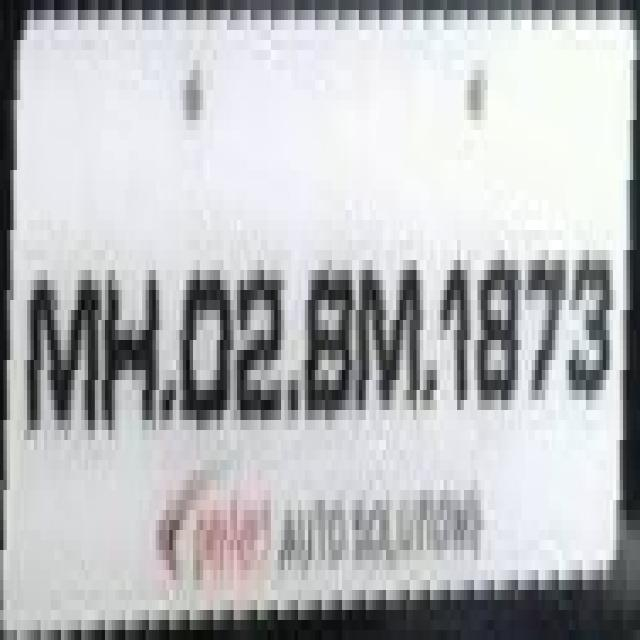license_plate: (20, 30, 640, 580)
